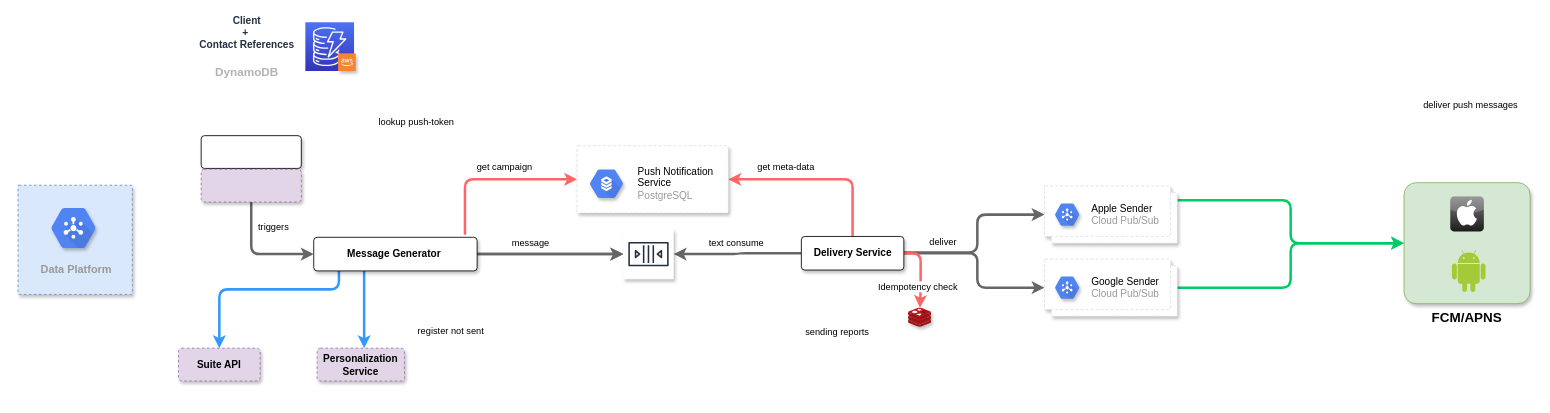
Some shapes in this 1550 by 413 pixel diagram are drawn without their labels. The shapes that lost their labels are listed below. From the top down, each one's centre as x and y in pixels, then its label:
At [251,152]: "Scheduler".
At [251,186]: "Automation Center".
At [649,255]: "queue".
